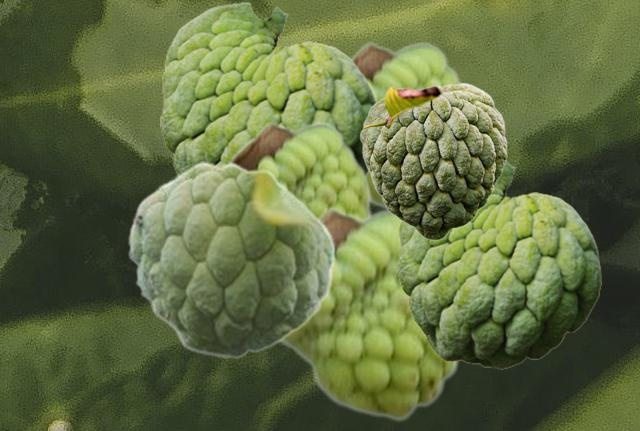atis: (397, 158, 600, 368), (127, 161, 336, 357), (279, 205, 461, 422), (160, 1, 378, 176), (359, 82, 506, 239), (350, 40, 462, 208), (228, 120, 372, 215)
